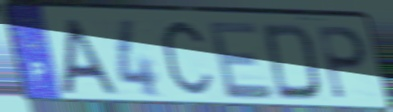4: (114, 16, 164, 100)
A: (59, 16, 122, 98)
C: (157, 16, 217, 103)
D: (260, 22, 324, 104)
E: (205, 19, 278, 103)
P: (315, 23, 370, 103)
